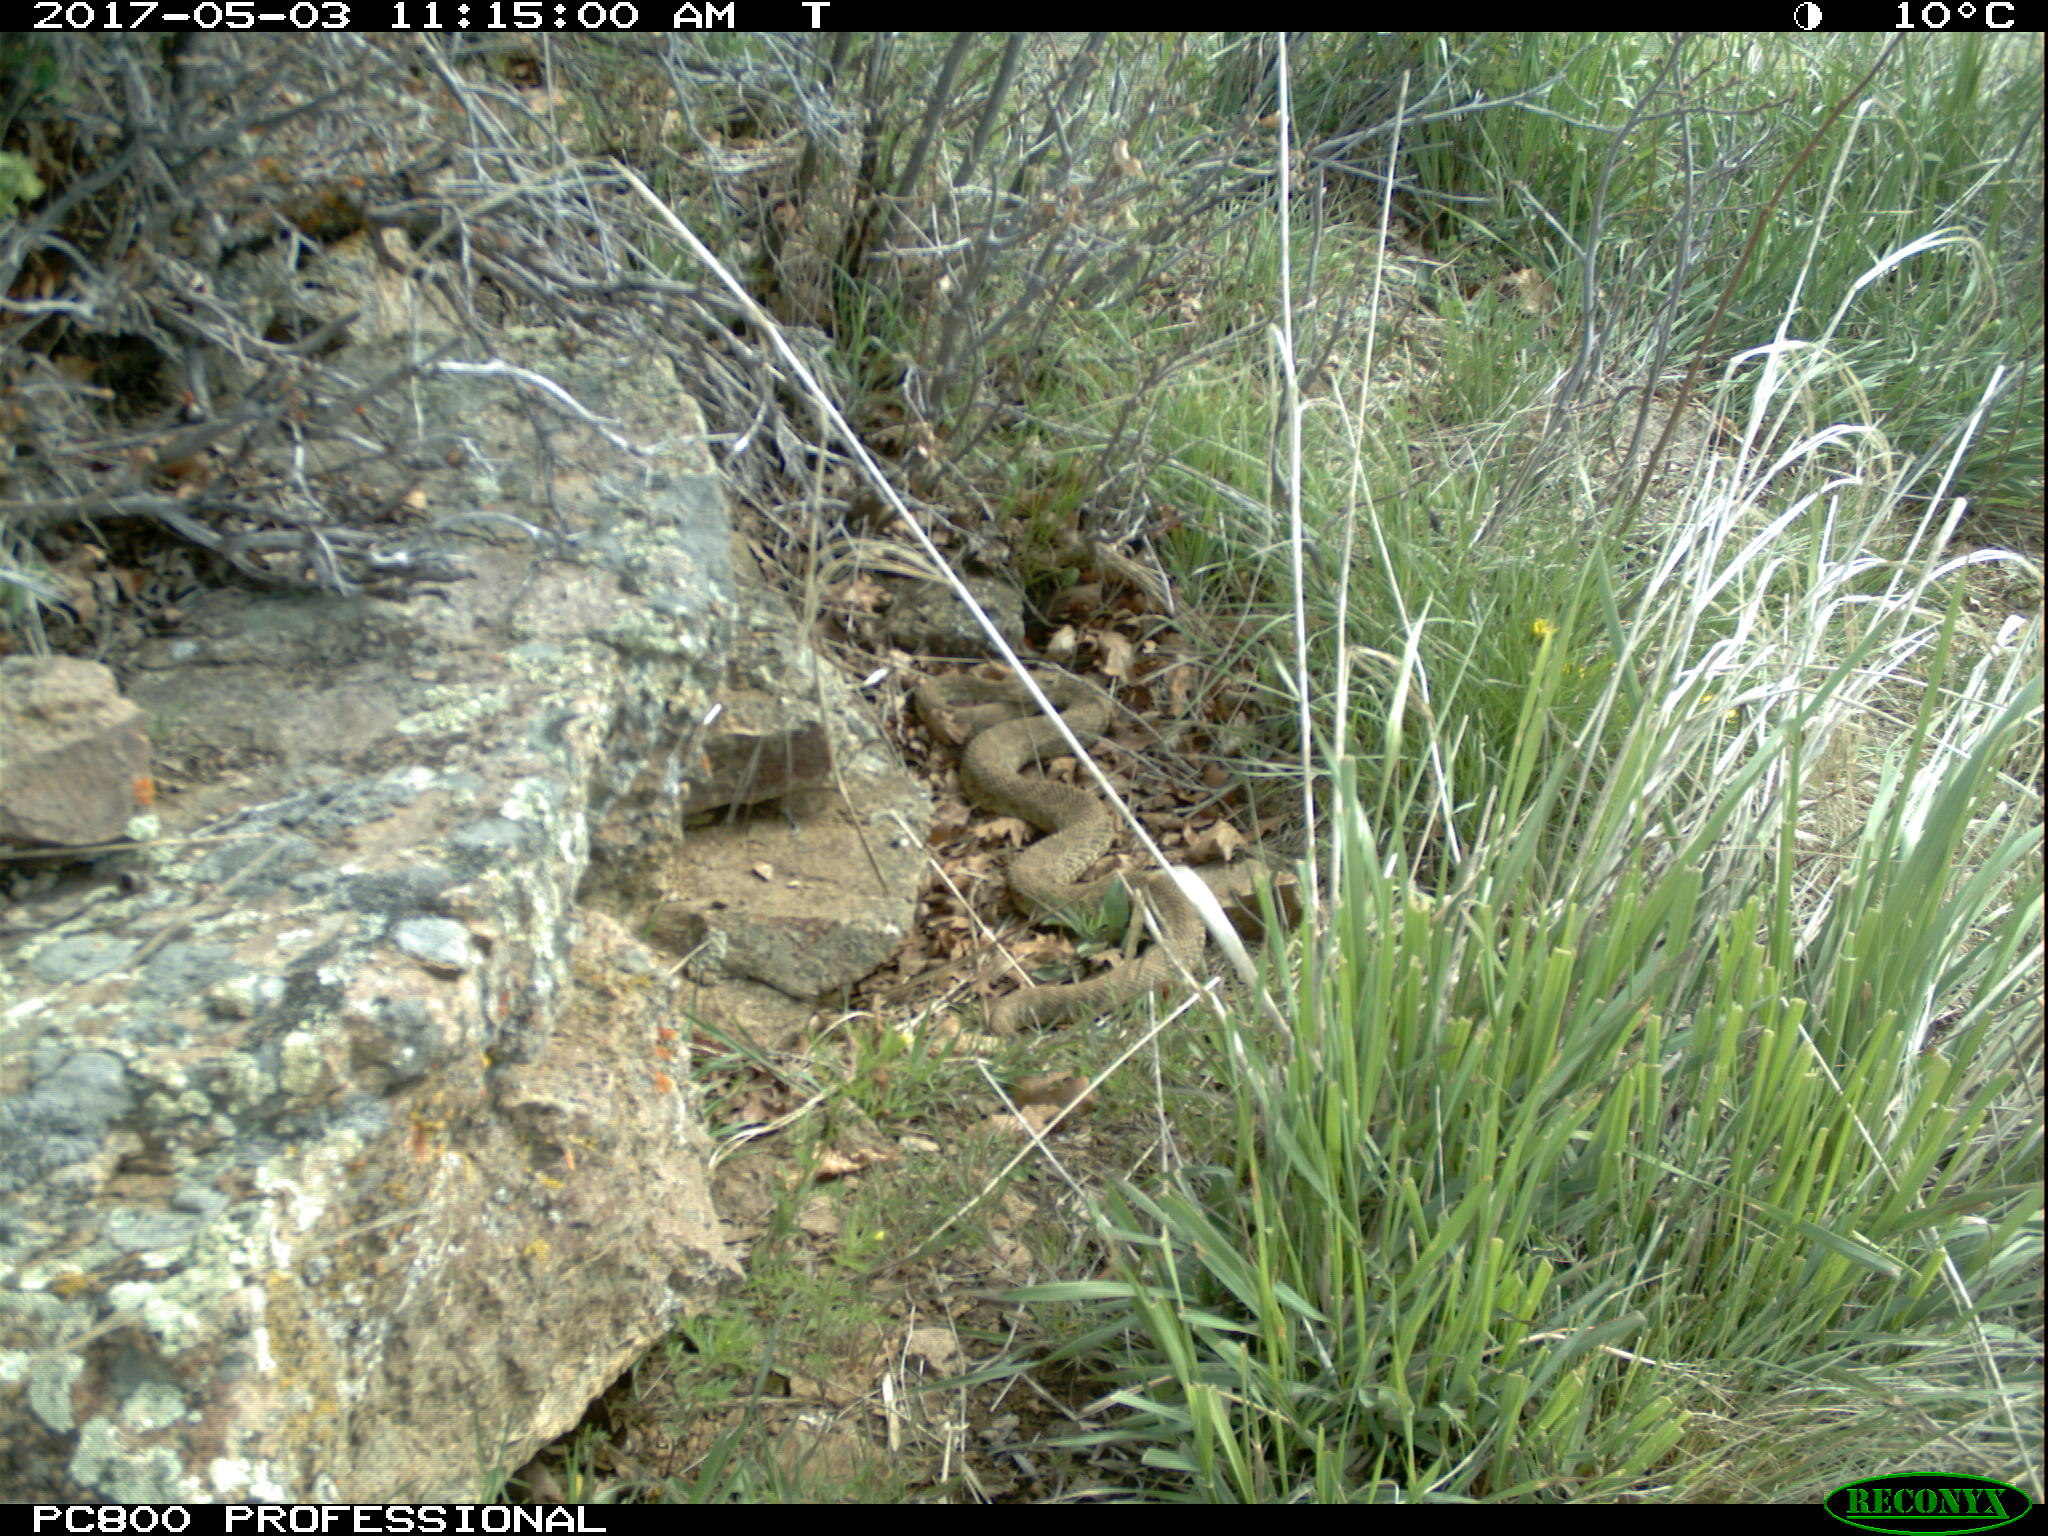snake: (924, 663, 1218, 1050)
